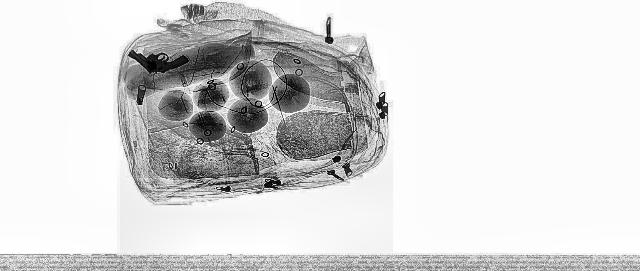Gun: (110, 43, 196, 75)
